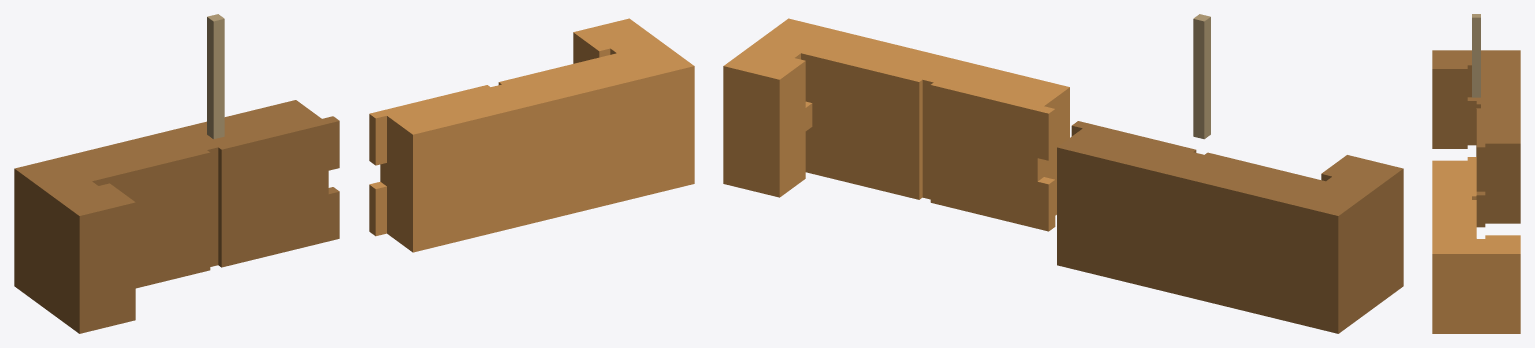
3 renders of one model, left to right at view 1: azimuth 30°, elevation 25°; view 2: azimuth 150°, elevation 25°; view 3: azimuth 270°, elevation 25°, orthographic. The views are drawn at different scales.
Bounding box in the file's own units: 1.76 × 0.6866 × 0.3221.
